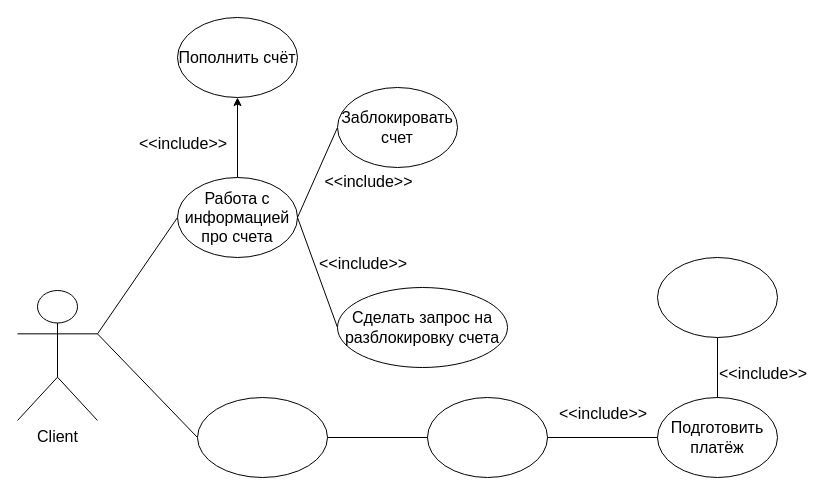
Some shapes in this 835 by 495 pixel diagram are drawn without their labels. Here are the shapes that lost their labels. From the top down, the centre of each, then its label:
At [717,297]: "Выбор услуги".
At [262,437]: "Работа с информацией про платежи".
At [487,437]: "Осуществить платёж".
